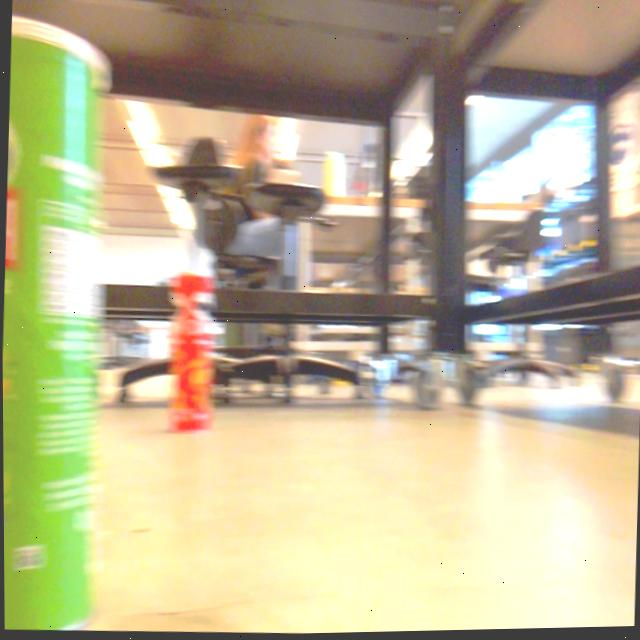greenpringles: (0, 3, 131, 633)
redpringles: (154, 252, 230, 447)
